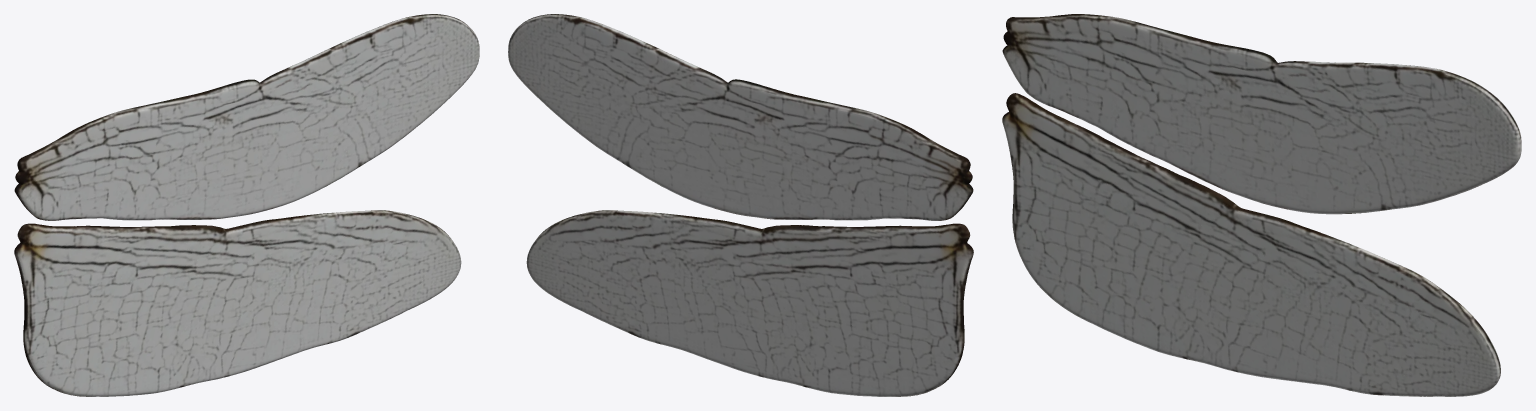
File: cand-4916786.glb
3 renders of one model, left to right at view 1: azimuth 30°, elevation 25°; view 2: azimuth 150°, elevation 25°; view 3: azimuth 330°, elevation 25°, orthographic. The views are drawn at different scales.
Visible parts, largest first — view 1: world; view 2: world; view 3: world.
Boxes of the visible parts, x1,y1,x2,y2 form: world: (14, 14, 479, 396); world: (508, 14, 973, 396); world: (1002, 14, 1521, 396).
Size of the model in its own units: 0.055 by 0.0356 by 0.00091.
Materials: 1 (1 with a texture image).
